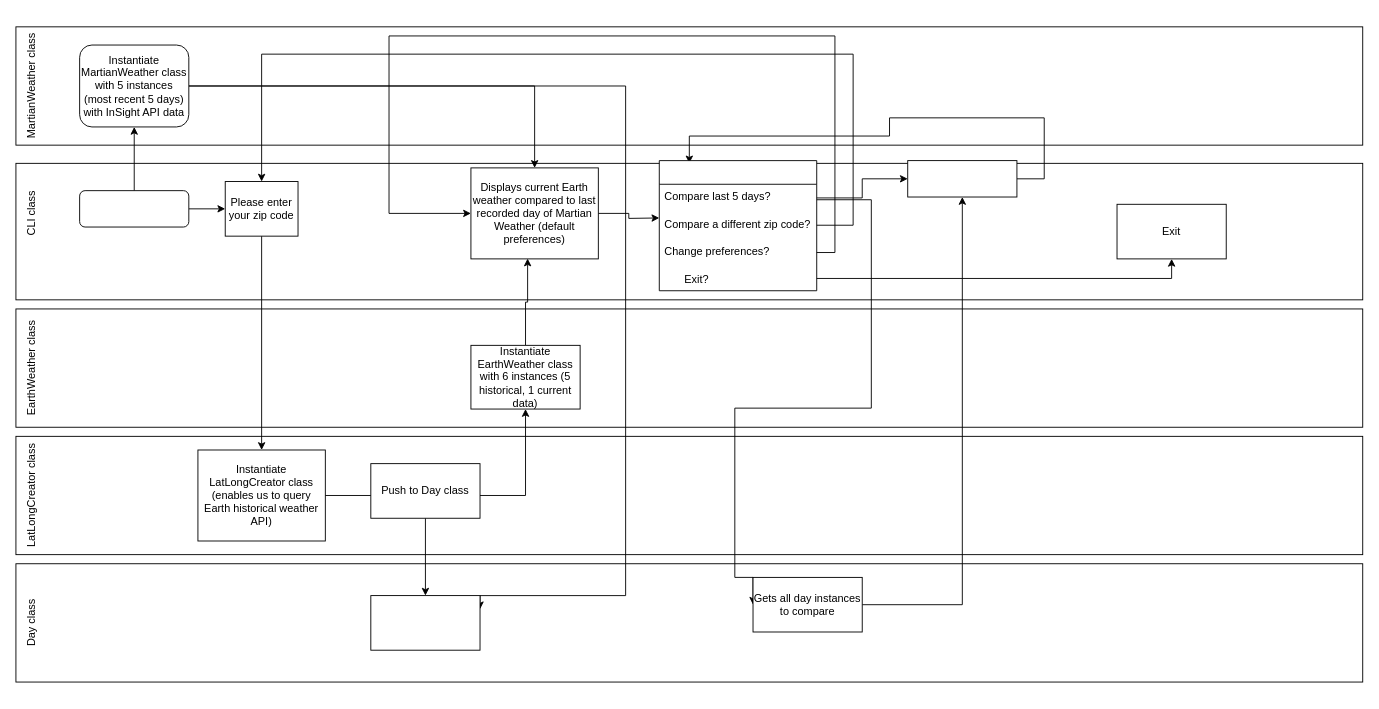
Image size: 1379x709. Some labels were removed from this diagram. The box of each missing label's shape, as (x1, y1, x2, y2) in pixels:
Displays last week of weather data: (907, 160, 1017, 197)
Options: (658, 160, 817, 291)
Stores both Martian and Earth weather data by Earth day: (370, 595, 480, 650)
Welcome to the Martian Weather Service: (79, 190, 189, 227)
